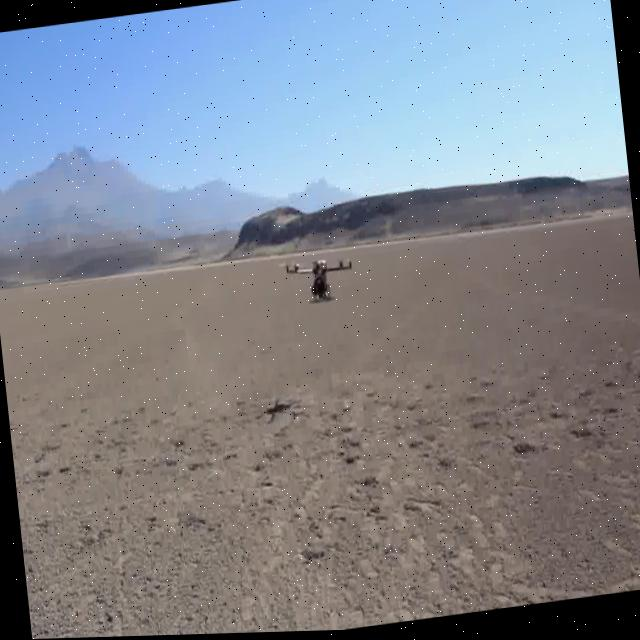drone: (269, 229, 373, 326)
